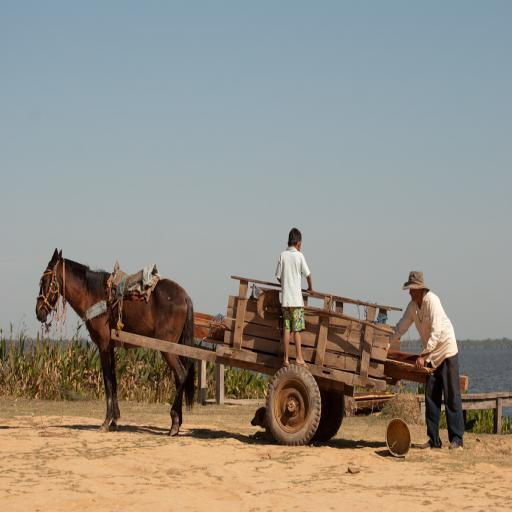horse: (34, 245, 196, 433)
